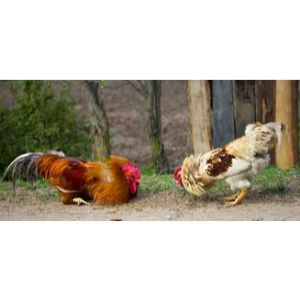hen: (169, 114, 290, 211), (2, 144, 150, 212)
